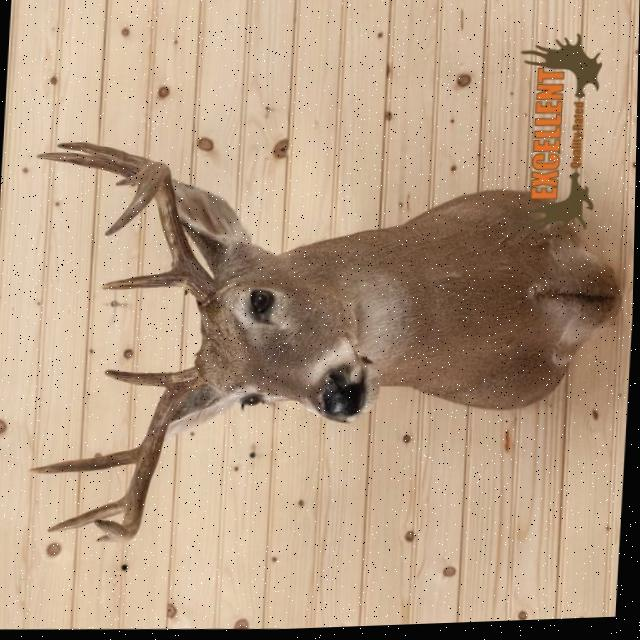L-F: (105, 162, 217, 304)
L-G1: (103, 270, 187, 290)
R-F: (96, 368, 204, 542)
R-G1: (105, 370, 182, 389)
R-G2: (30, 446, 142, 473)
R-G3: (49, 495, 127, 531)
